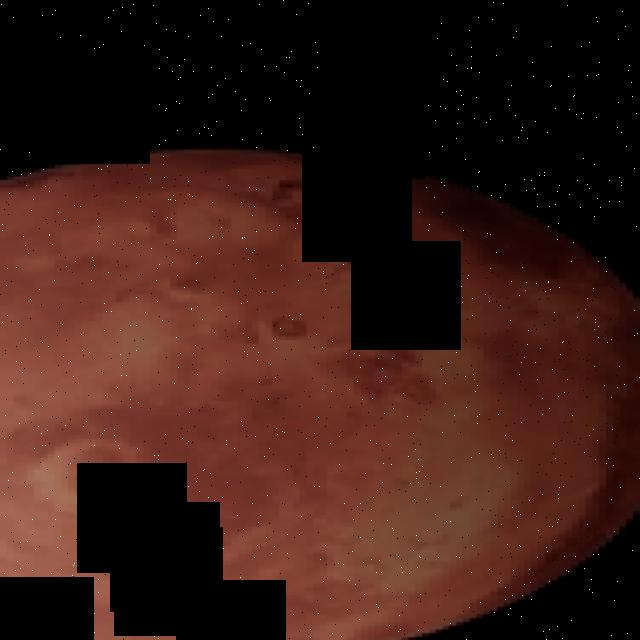Mars: (0, 145, 640, 640)
